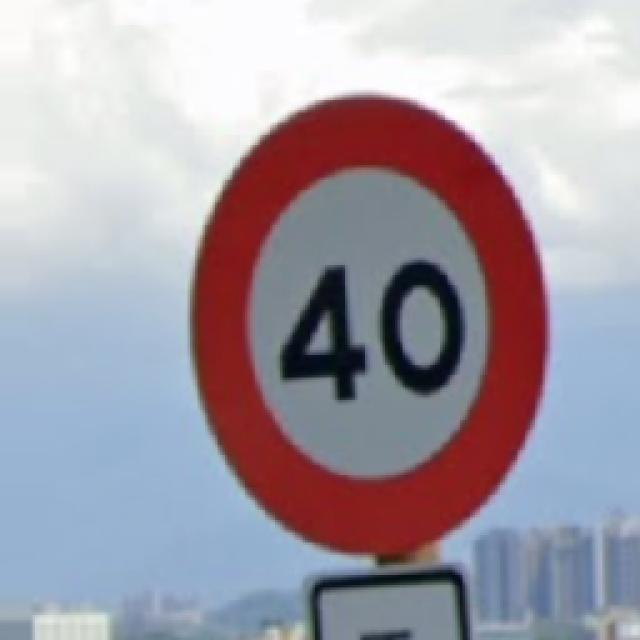Speed Limit -40-: (192, 98, 540, 550)
